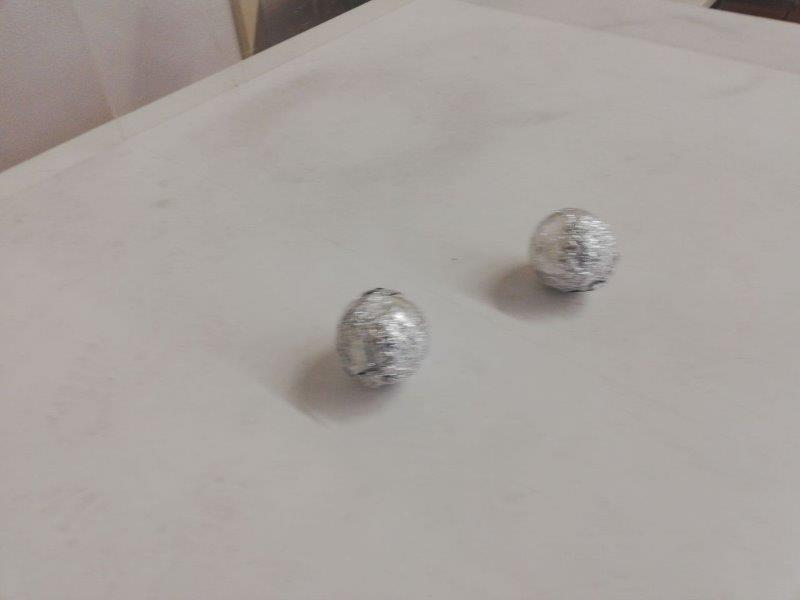bianca: (336, 285, 423, 380), (530, 209, 612, 291)
